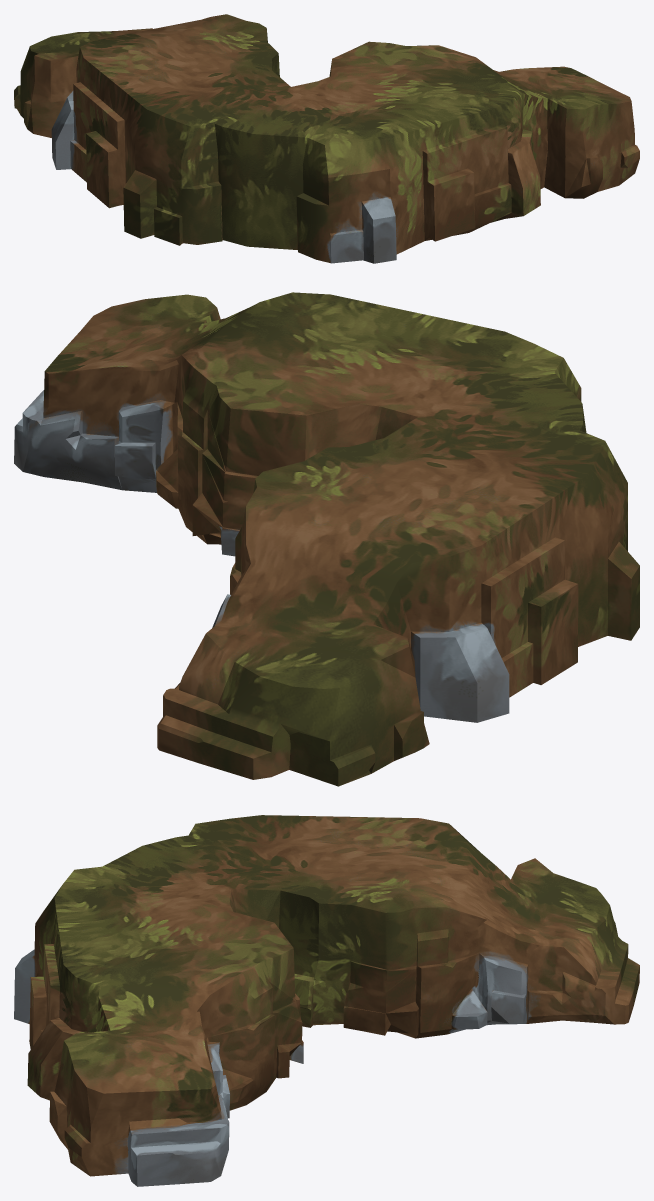
Rendered from skala_1.obj.
The picture shows the model from 3 angles, top to bottom: view 1: azimuth 30°, elevation 25°; view 2: azimuth 150°, elevation 25°; view 3: azimuth 270°, elevation 25°; orthographic projection. The views are drawn at different scales.
Parts seen in each view (by area): view 1: Cylinder.014; view 2: Cylinder.014; view 3: Cylinder.014.
Boxes of the visible parts, bbox=[...] form: Cylinder.014: bbox=[14, 14, 639, 263]; Cylinder.014: bbox=[14, 292, 639, 786]; Cylinder.014: bbox=[14, 815, 639, 1186].
Size of the model in its own units: 81.05 by 19.17 by 82.69.
1 material, 1 textured.
